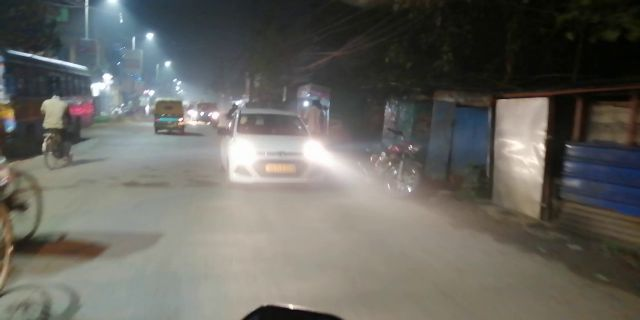Autorickshaw: (148, 89, 187, 134)
Car: (217, 102, 325, 191)
